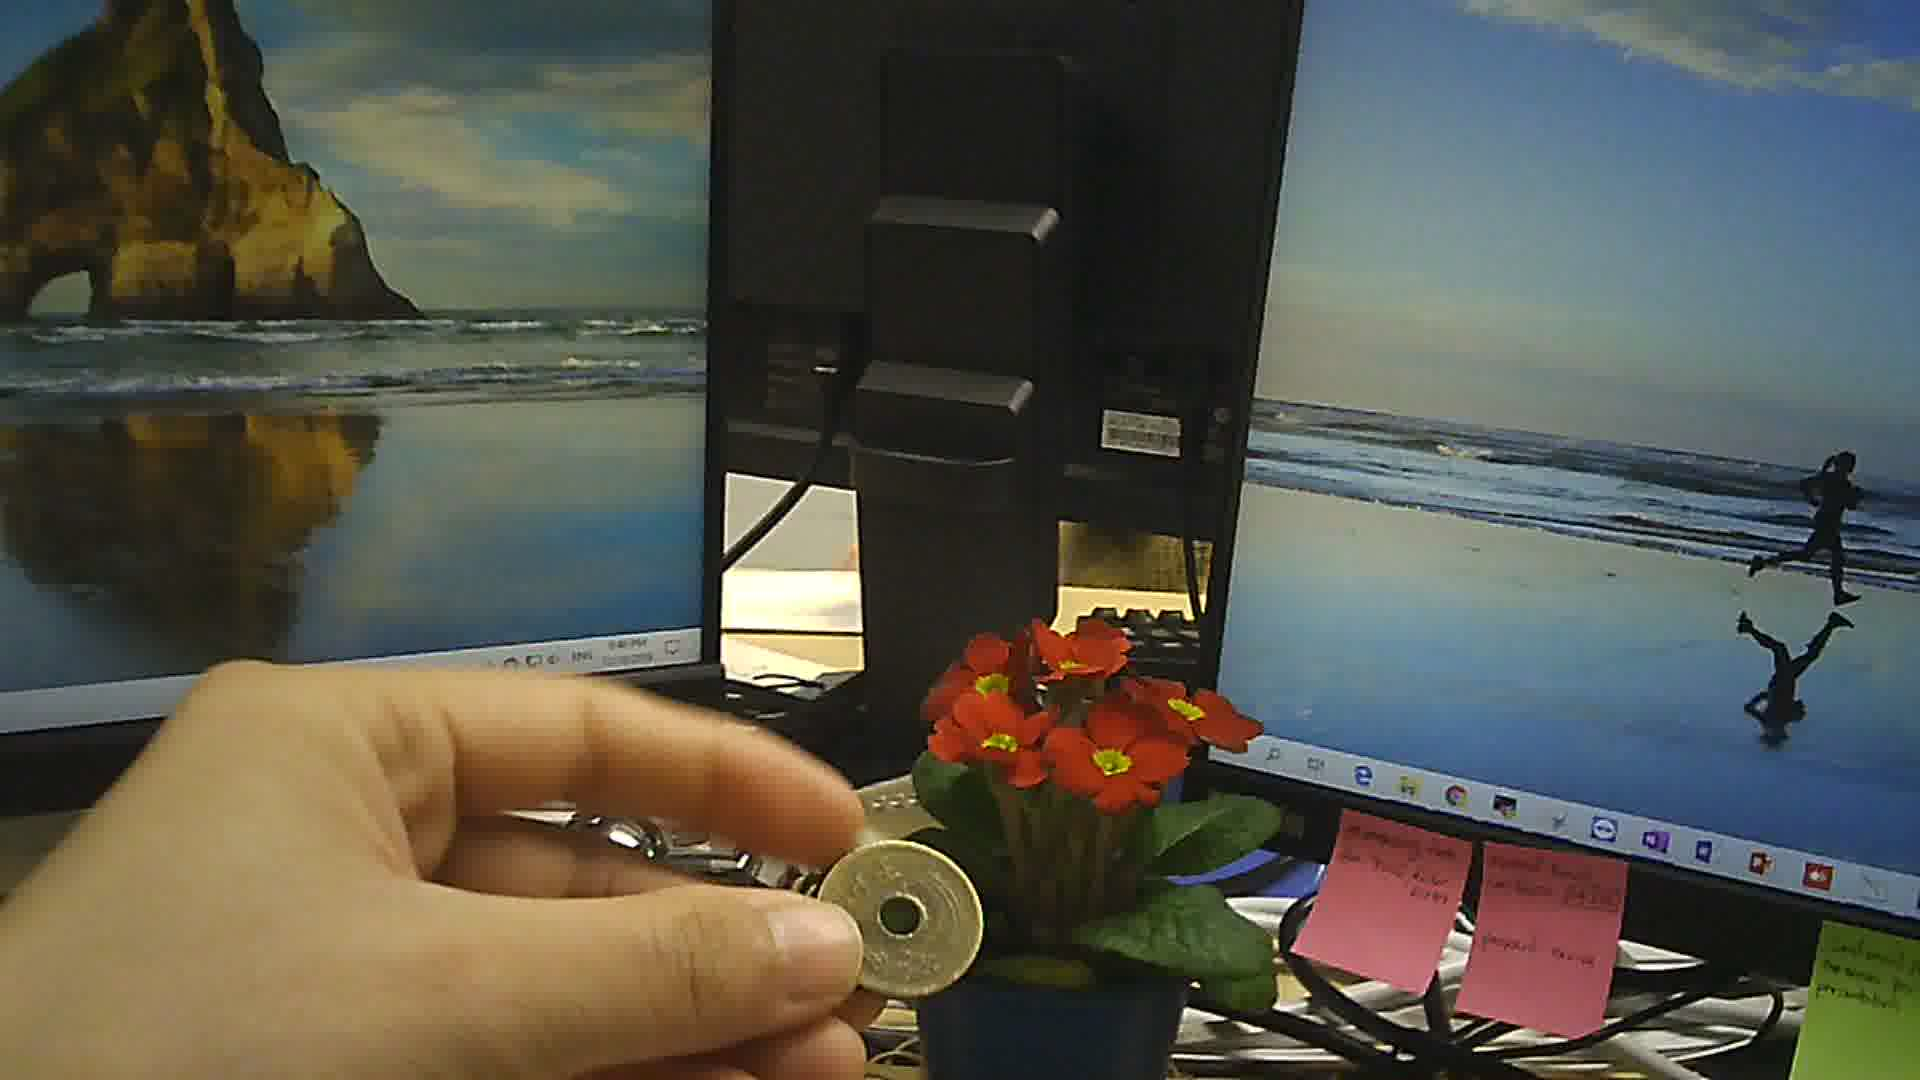5 Yen: (811, 829, 992, 994)
